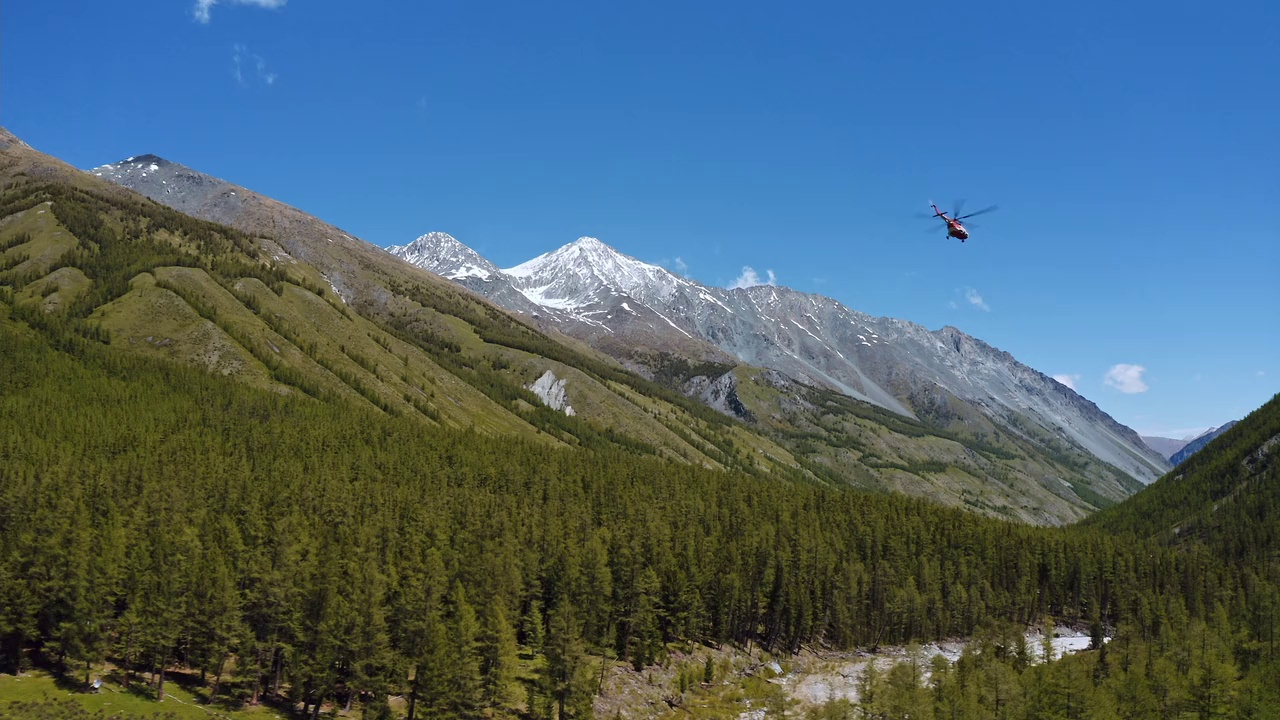heli: (925, 198, 996, 243)
